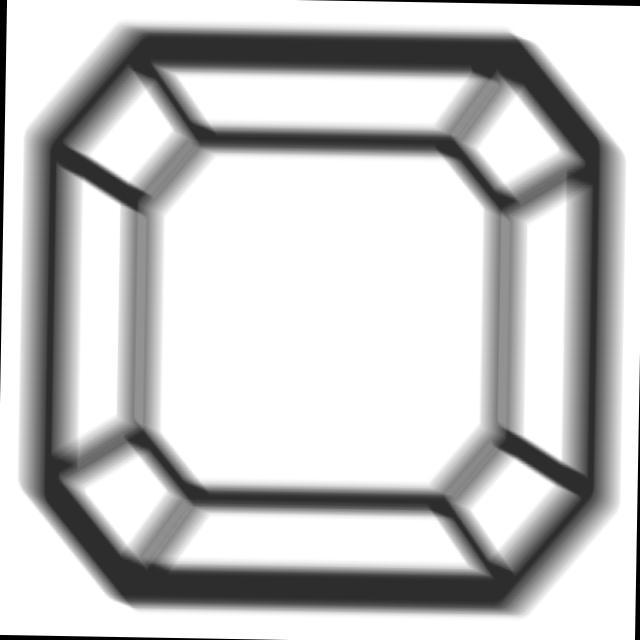emerald: (13, 12, 634, 627)
